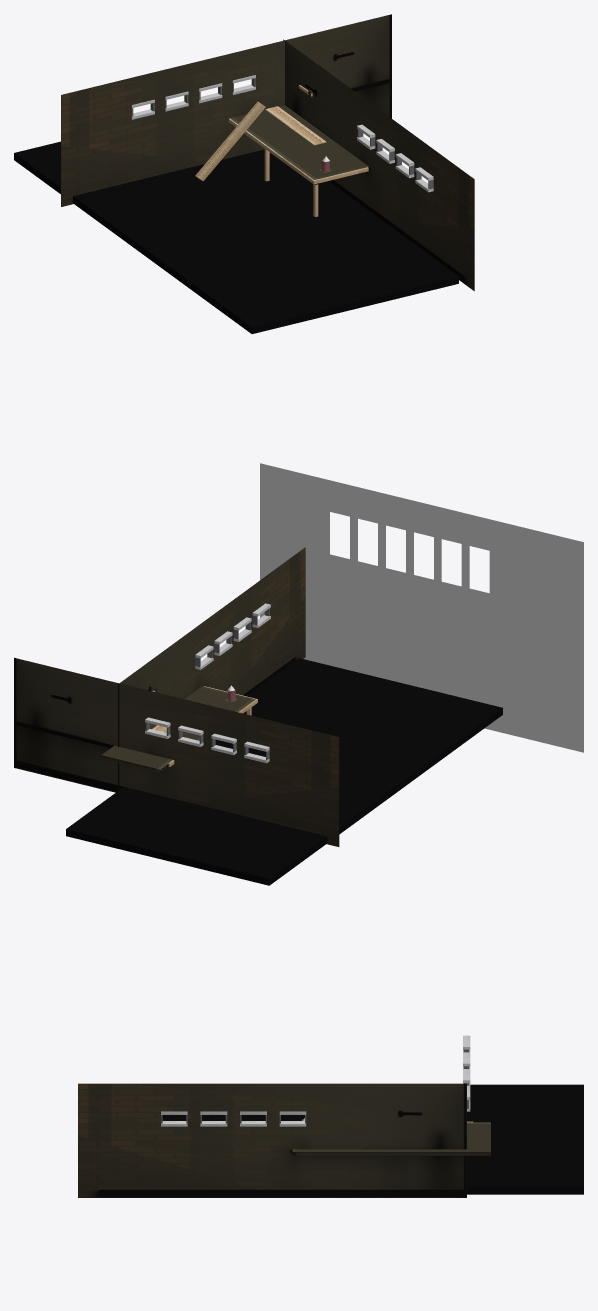
File: a garage with a work station.glb
3 views of the same model, one above another, from view 1: azimuth 30°, elevation 25°; view 2: azimuth 150°, elevation 25°; view 3: azimuth 270°, elevation 25° (orthographic). The views are drawn at different scales.
Parts seen in each view (by area): view 1: Cube, Plane.001, Plane.004, Cube.005, Cube.030, Cube.002, Cube.031; view 2: Plane.002, Cube, Plane.001, Plane.004, Cube.005; view 3: Plane.004, Cube, Cube.005.
Boxes of the visible parts, bbox=[...] form: Cube: bbox=[14, 141, 458, 333]; Plane.001: bbox=[61, 14, 391, 206]; Plane.004: bbox=[283, 39, 474, 291]; Cube.005: bbox=[230, 105, 369, 179]; Cube.030: bbox=[195, 101, 265, 180]; Cube.002: bbox=[228, 118, 368, 184]; Cube.031: bbox=[265, 106, 326, 145]; Plane.002: bbox=[260, 463, 583, 752]; Cube: bbox=[66, 658, 502, 885]; Plane.001: bbox=[14, 657, 339, 846]; Plane.004: bbox=[118, 547, 305, 790]; Cube.005: bbox=[101, 686, 255, 772]; Plane.004: bbox=[78, 1083, 466, 1197]; Cube: bbox=[162, 1084, 583, 1194]; Cube.005: bbox=[292, 1122, 490, 1155].
Bounding box in the file's own units: 2.43 × 1.38 × 3.28.
12 materials, 7 textured.
